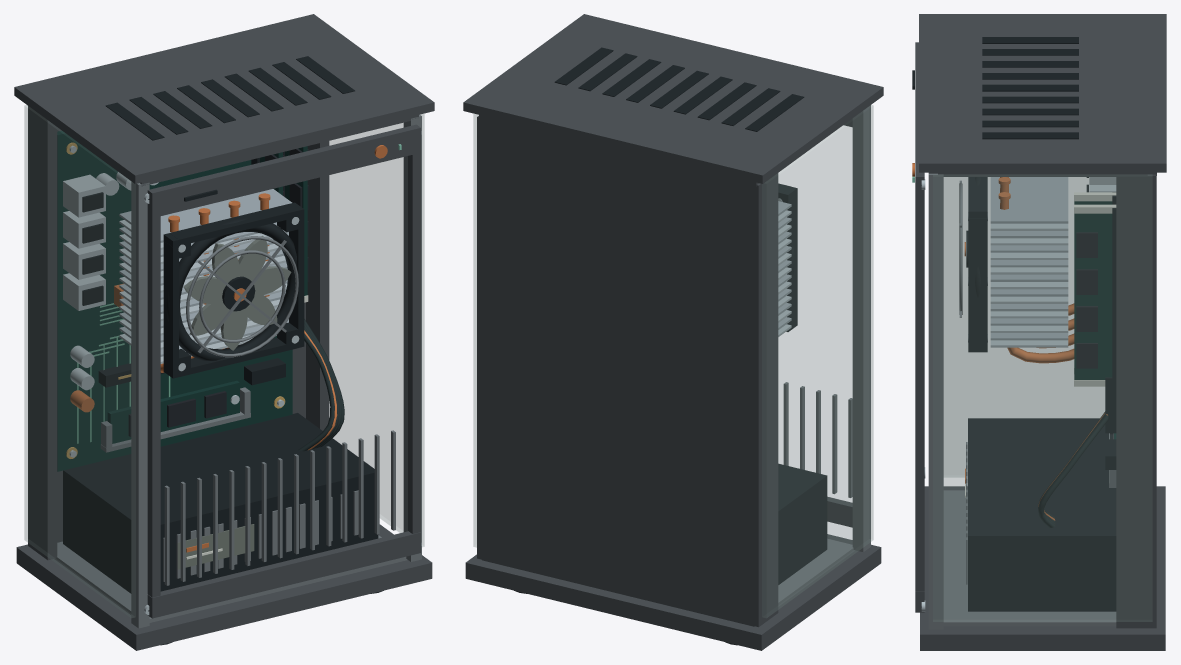
File: computer.glb
3 renders of one model, left to right at view 1: azimuth 30°, elevation 25°; view 2: azimuth 150°, elevation 25°; view 3: azimuth 270°, elevation 25°, orthographic. The views are drawn at different scales.
Parts seen in each view (by area): view 1: Left smoked service panel, Top service lid, Front vented fascia, Power supply enclosure, Right smoked service panel, Rear structural spine, Mainboard circuit substrate, Base and isolation feet, Square fan housing, Front corner uprights, Rear input output connectors, Eighteen aluminum cooling fins (+11 smaller); view 2: Rear structural spine, Left smoked service panel, Top service lid, Base and isolation feet, Front corner uprights, Power supply enclosure, Front vented fascia, Right smoked service panel, Eighteen aluminum cooling fins, Square fan housing, Upper structural frame; view 3: Right smoked service panel, Top service lid, Power supply enclosure, Rear structural spine, Left smoked service panel, Base and isolation feet, Eighteen aluminum cooling fins, Memory module B, Front corner uprights, Front vented fascia, Square fan housing, Four copper heat pipes (+6 smaller).
Part boxes in pixels (bbox=[...]): Left smoked service panel: bbox=[24, 105, 135, 617]; Top service lid: bbox=[14, 14, 434, 183]; Front vented fascia: bbox=[147, 124, 420, 618]; Power supply enclosure: bbox=[63, 413, 378, 593]; Right smoked service panel: bbox=[329, 114, 424, 546]; Rear structural spine: bbox=[28, 106, 329, 560]; Mainboard circuit substrate: bbox=[57, 130, 292, 471]; Base and isolation feet: bbox=[16, 524, 432, 650]; Square fan housing: bbox=[163, 202, 304, 378]; Front corner uprights: bbox=[131, 114, 421, 628]; Rear input output connectors: bbox=[63, 174, 105, 412]; Eighteen aluminum cooling fins: bbox=[119, 189, 292, 363]; Rear structural spine: bbox=[477, 116, 778, 627]; Left smoked service panel: bbox=[762, 105, 873, 617]; Top service lid: bbox=[463, 14, 883, 183]; Base and isolation feet: bbox=[465, 534, 881, 650]; Front corner uprights: bbox=[852, 105, 870, 552]; Power supply enclosure: bbox=[778, 463, 827, 584]; Front vented fascia: bbox=[783, 118, 852, 527]; Right smoked service panel: bbox=[473, 114, 478, 547]; Eighteen aluminum cooling fins: bbox=[778, 201, 791, 336]; Square fan housing: bbox=[778, 183, 797, 331]; Upper structural frame: bbox=[479, 115, 758, 186]; Right smoked service panel: bbox=[933, 174, 1152, 621]; Top service lid: bbox=[919, 14, 1166, 172]; Power supply enclosure: bbox=[965, 418, 1116, 611]; Rear structural spine: bbox=[1116, 174, 1156, 628]; Left smoked service panel: bbox=[944, 177, 1104, 476]; Base and isolation feet: bbox=[920, 486, 1165, 650]; Eighteen aluminum cooling fins: bbox=[990, 177, 1068, 347]; Memory module B: bbox=[1074, 204, 1116, 387]; Front corner uprights: bbox=[928, 173, 943, 629]; Front vented fascia: bbox=[912, 42, 924, 612]; Square fan housing: bbox=[968, 177, 987, 352]; Four copper heat pipes: bbox=[998, 177, 1074, 363].
Size of the model in its own units: 1.76 by 2.75 by 1.26.
